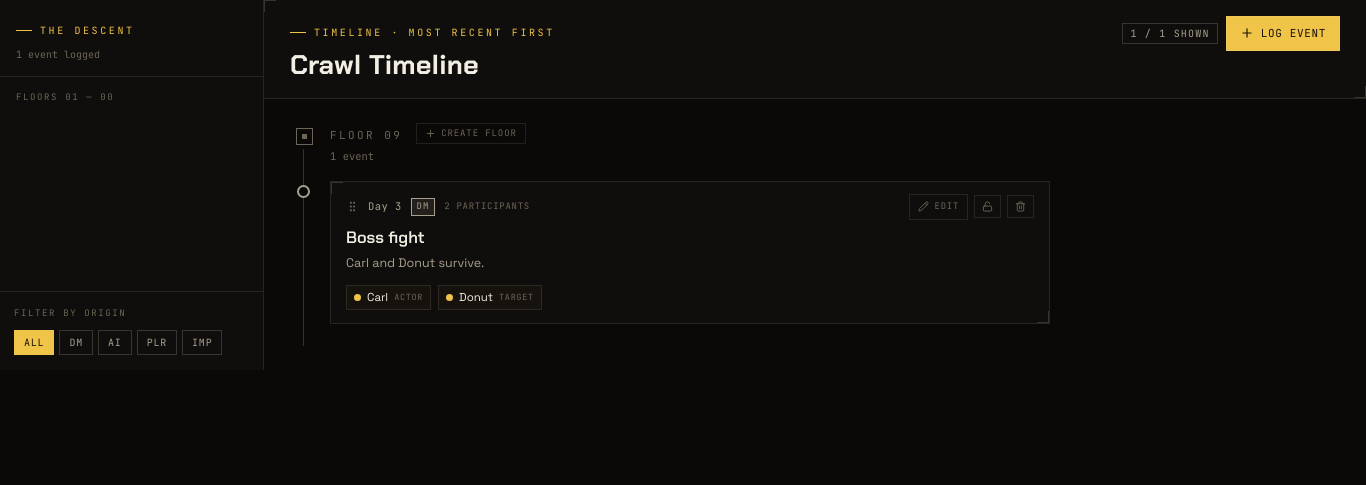
CampaignTimeline › shows an undo affordance after removing an event from the timeline
This screenshot has width=1366, height=485.
Click the button named "Remove event". click: point(1020, 206)
box: [1007,195,1034,218]
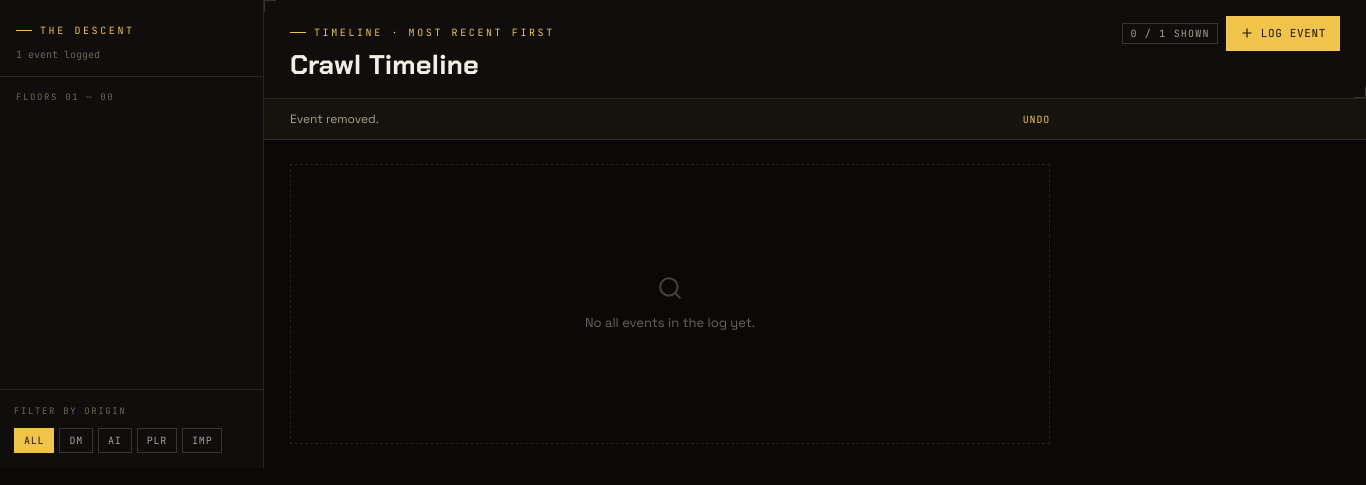
Now the text "Event removed." is shown, box [290,111,379,127]
Click the button "Undo". click: point(1036, 119)
box: [1023,113,1050,126]
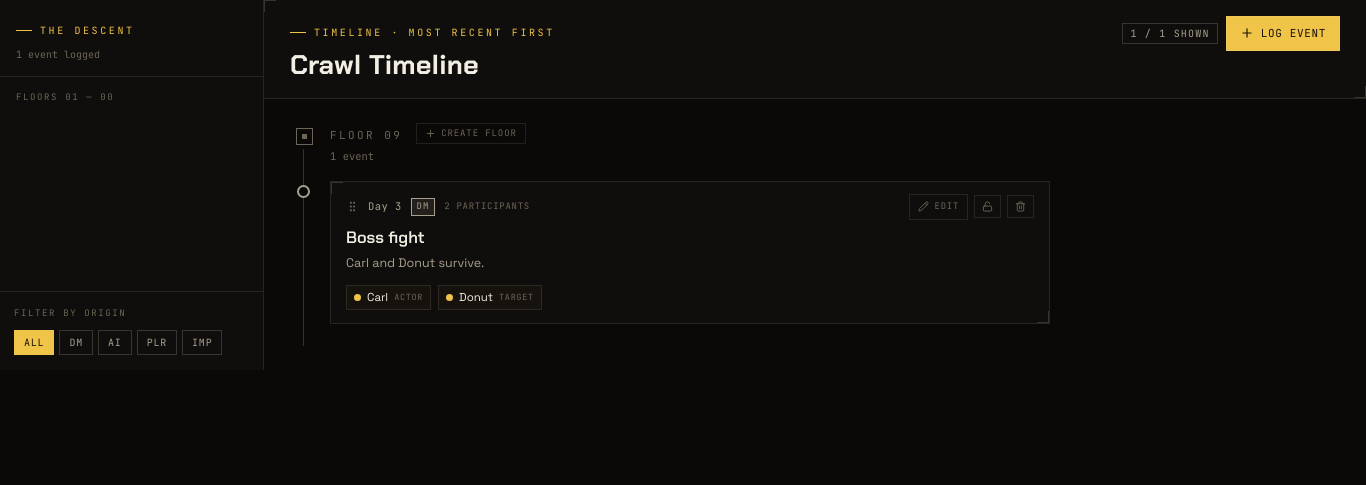
Now the text "Event removed." is gone
